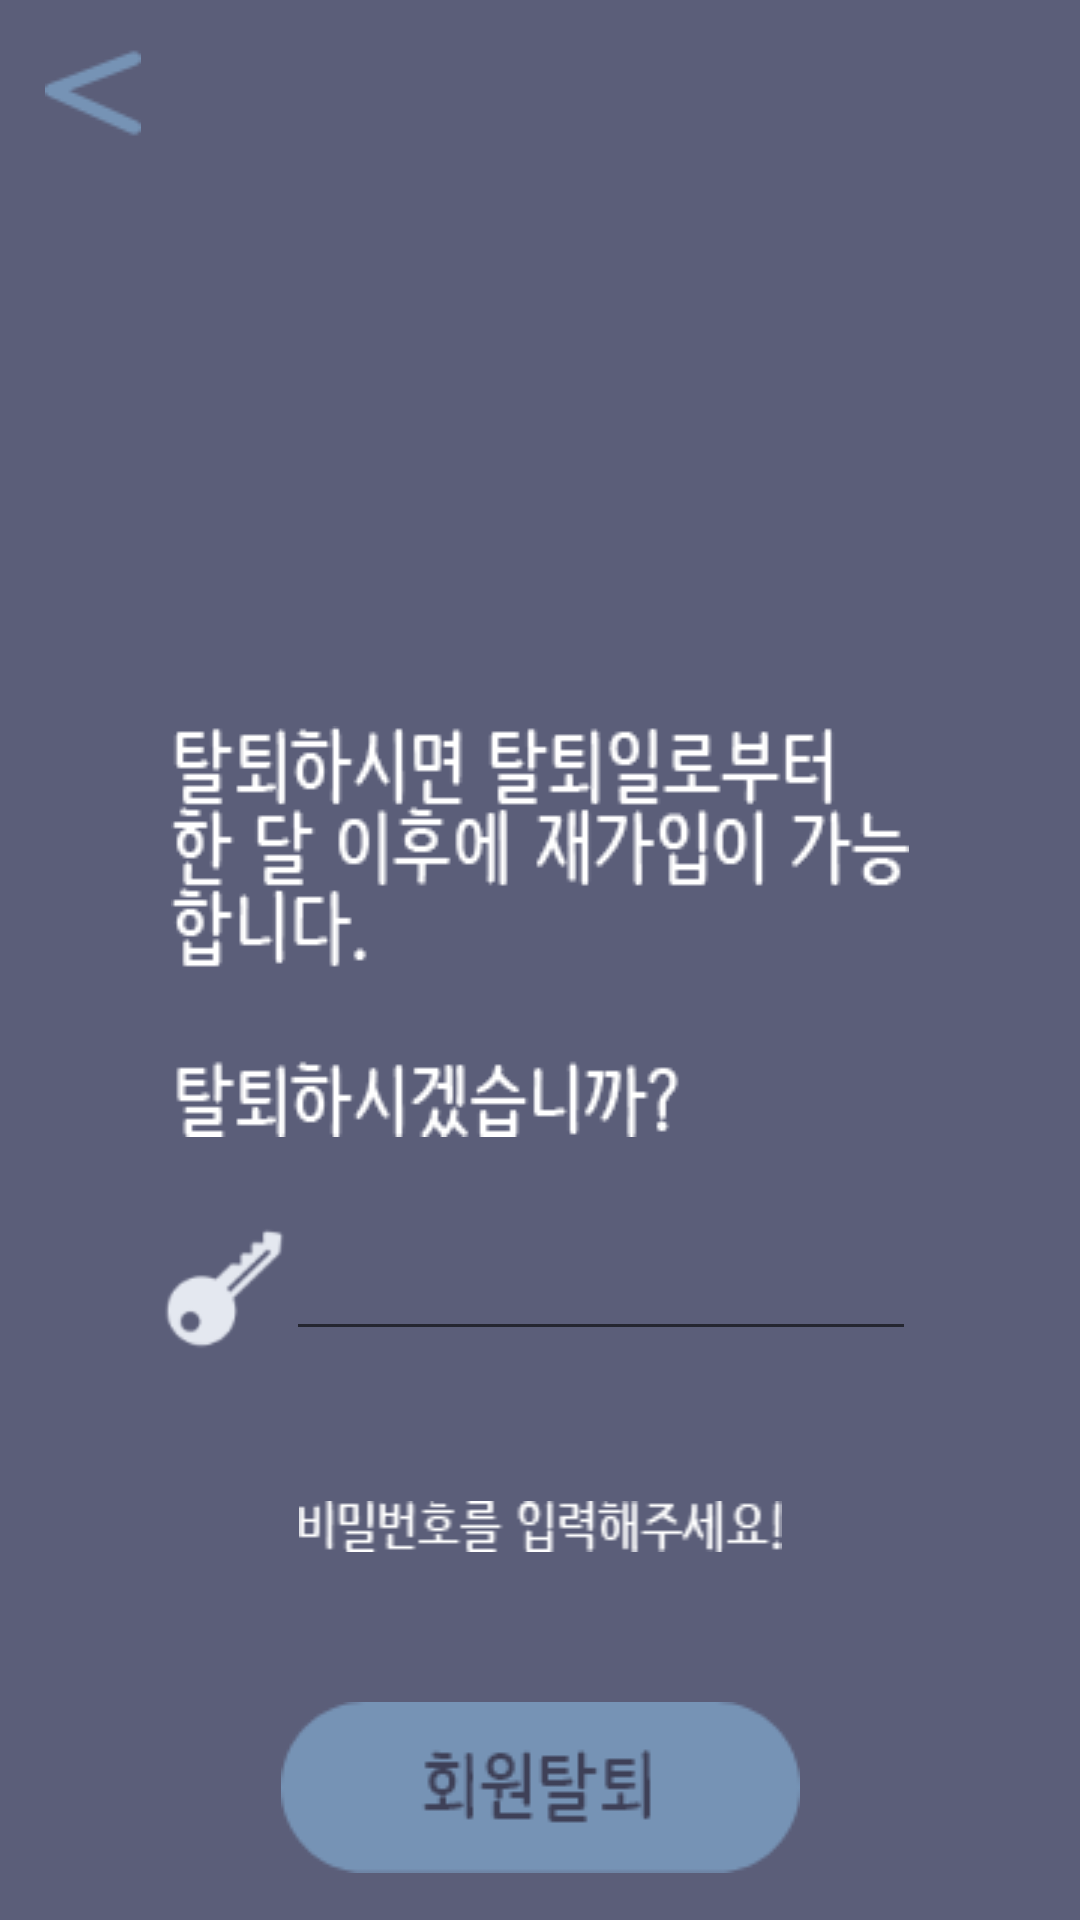

Icons on this 1080px x 1920px Android screen, each with the point to tap as point (x, y):
goback: point (93, 93)
key: point (224, 1288)
